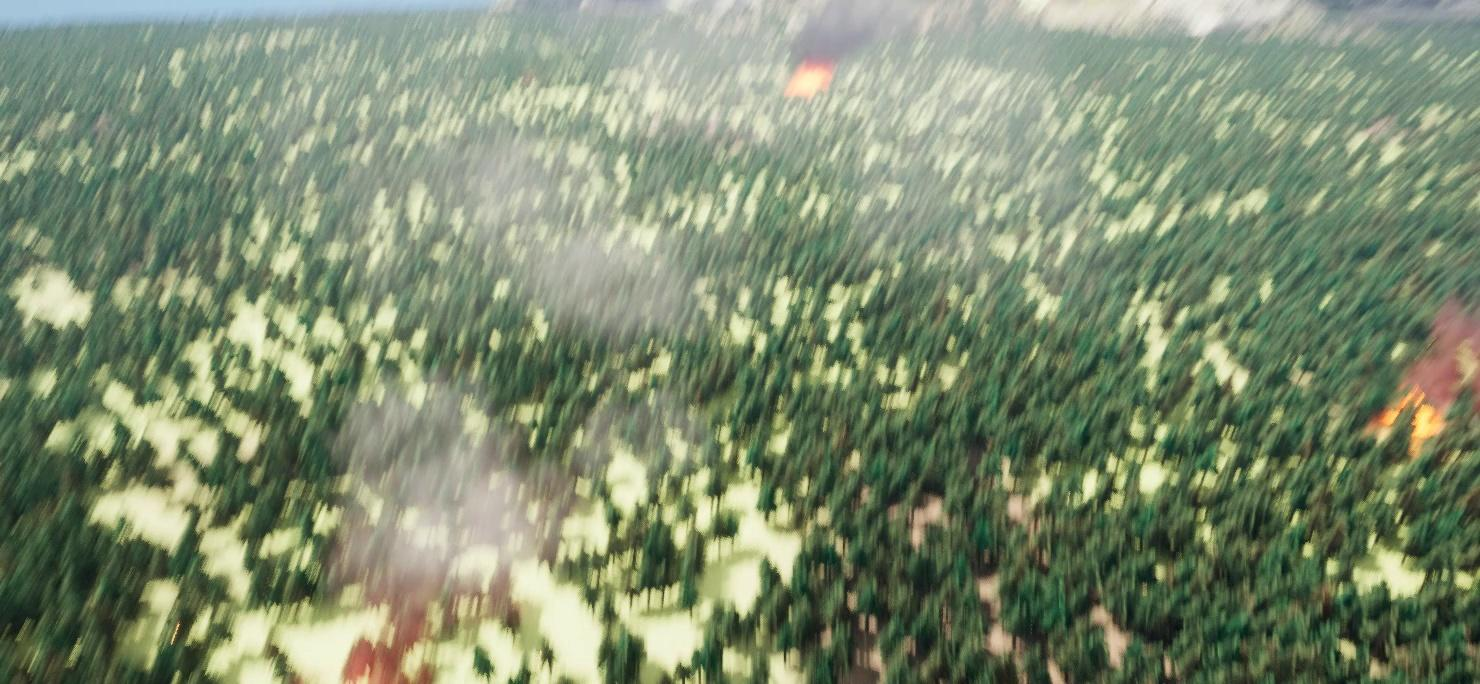fire: (1372, 388, 1443, 441), (779, 59, 839, 100)
smoke: (312, 133, 679, 629), (1405, 298, 1479, 384), (794, 0, 887, 56)
